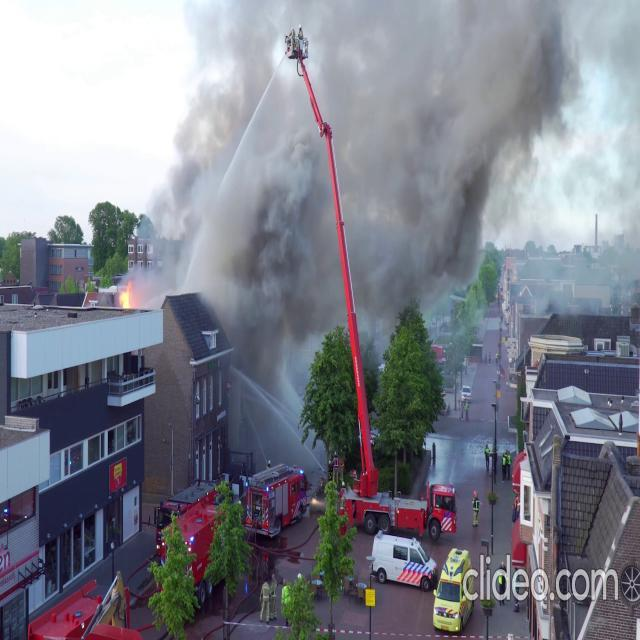Fire: (117, 274, 134, 312)
Smoke: (140, 1, 631, 343)
